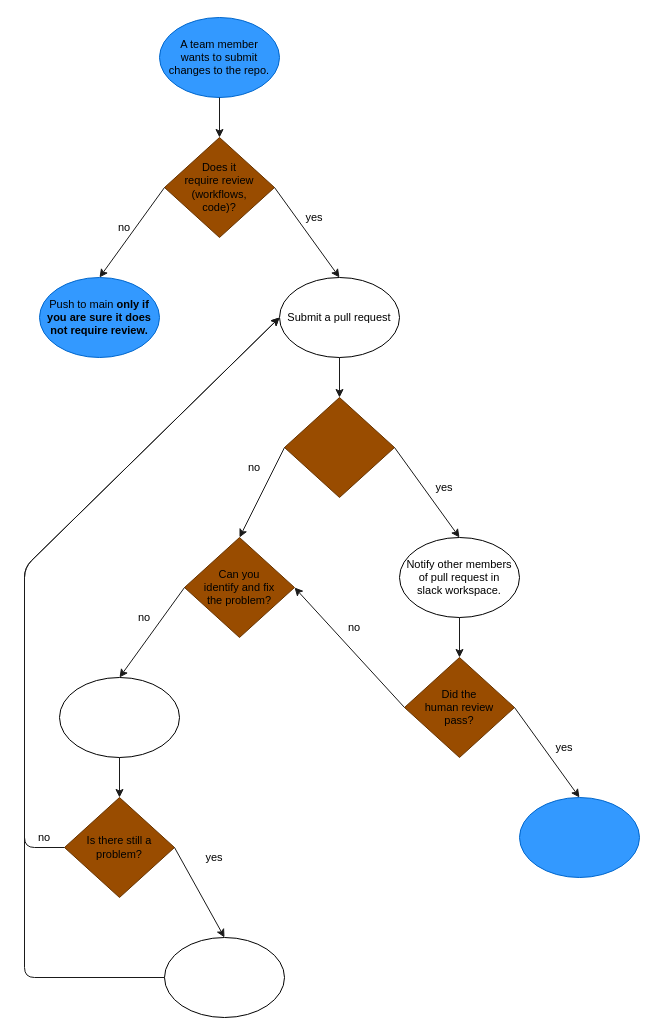
Some shapes in this 657 by 1035 pixel diagram are drawn without their labels. Here are the shapes that lost their labels. From the top down, the centre of each, then its label:
At [339,447]: "Did the automated workflow(s) pass?".
At [119,717]: "Meet with other front- or back-end devs to resolve the problem.".
At [579,837]: "Push changes to main branch.".
At [224,977]: "Meet with the whole team to resolve the problem.".
